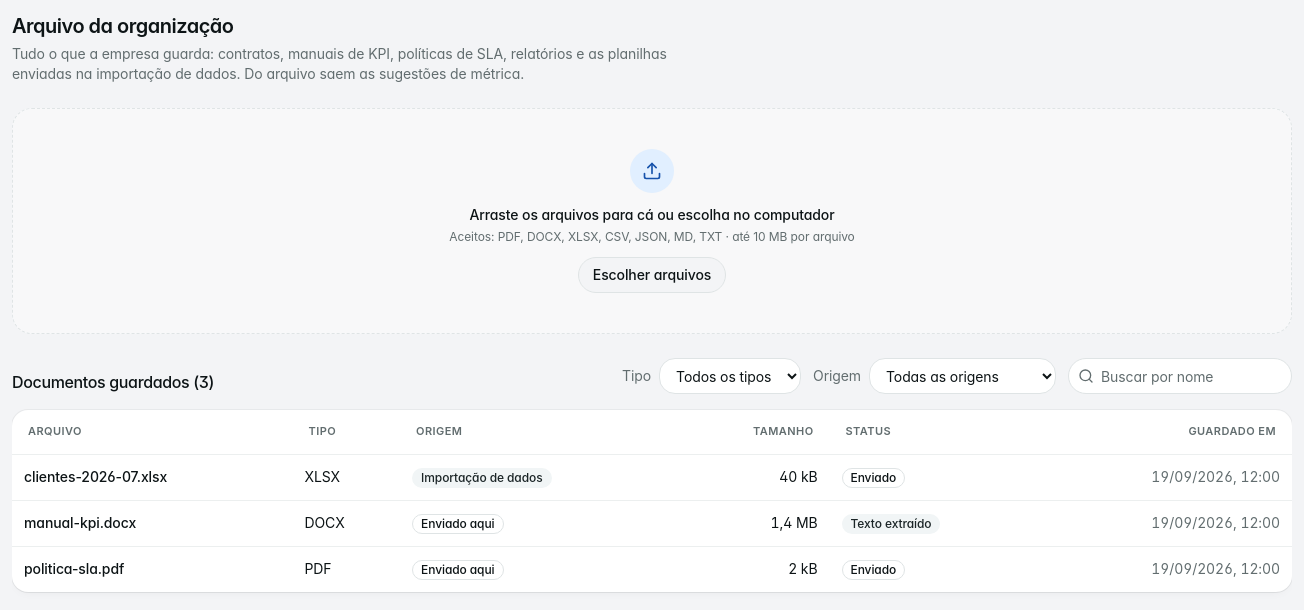
feature documents › /documents › filtra por tipo, por origem e por nome, e limpa os filtros
The width and height of the screenshot is (1304, 610).
expect the heading "Documentos guardados (3)" is shown: met, box x1=12 y1=370 x2=214 y2=394
Select "XLSX" in the dropdown labelled "Tipo" at (730, 376), box x1=659 y1=358 x2=801 y2=394
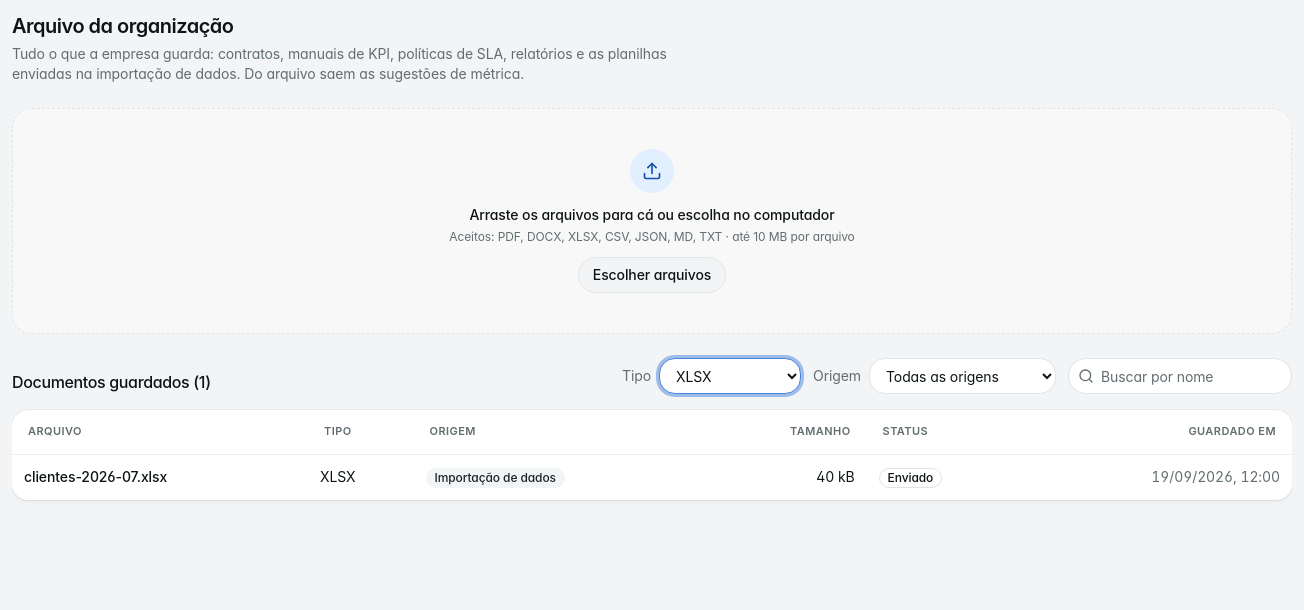
expect the heading "Documentos guardados (1)" is shown: met, box x1=12 y1=370 x2=211 y2=394
Select "Todos os tipos" in the dropdown labelled "Tipo" at (730, 376), box x1=659 y1=358 x2=801 y2=394
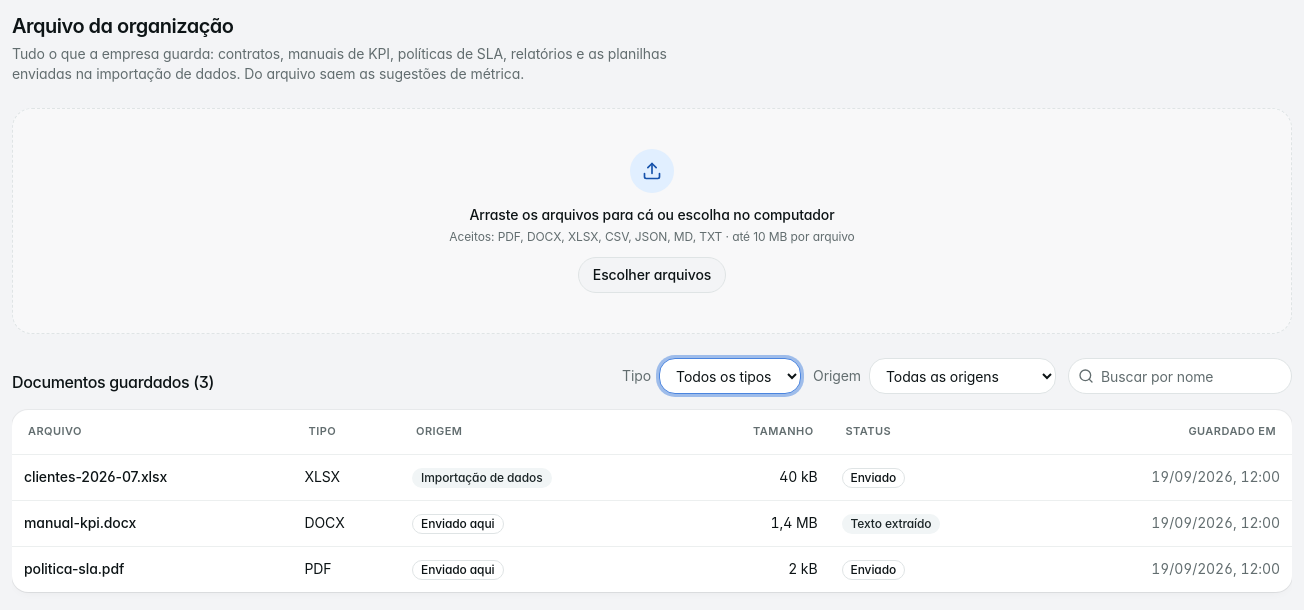
Select "Importação de dados" in the dropdown labelled "Origem" at (962, 376), box x1=869 y1=358 x2=1056 y2=394
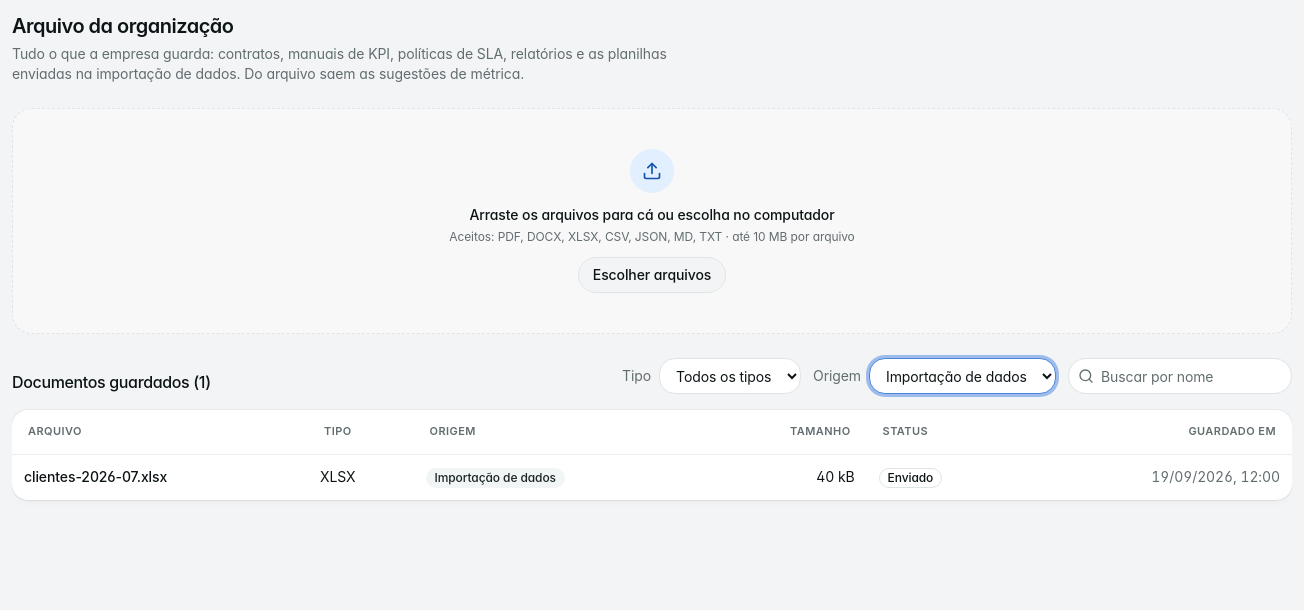
expect the heading "Documentos guardados (1)" is shown: met, box x1=12 y1=370 x2=211 y2=394
Select "Todas as origens" in the dropdown labelled "Origem" at (962, 376), box x1=869 y1=358 x2=1056 y2=394
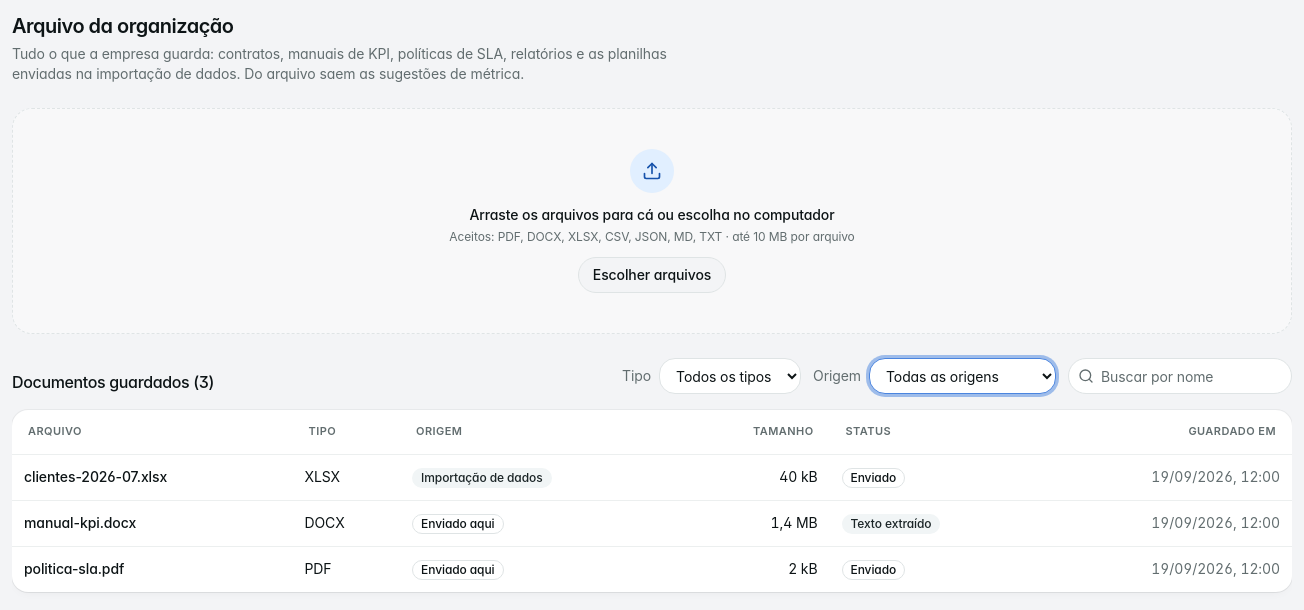
Type "manual" into the search field named "Buscar por nome do arquivo".
click(1180, 376); type("manual")  # box x1=1068 y1=358 x2=1292 y2=394
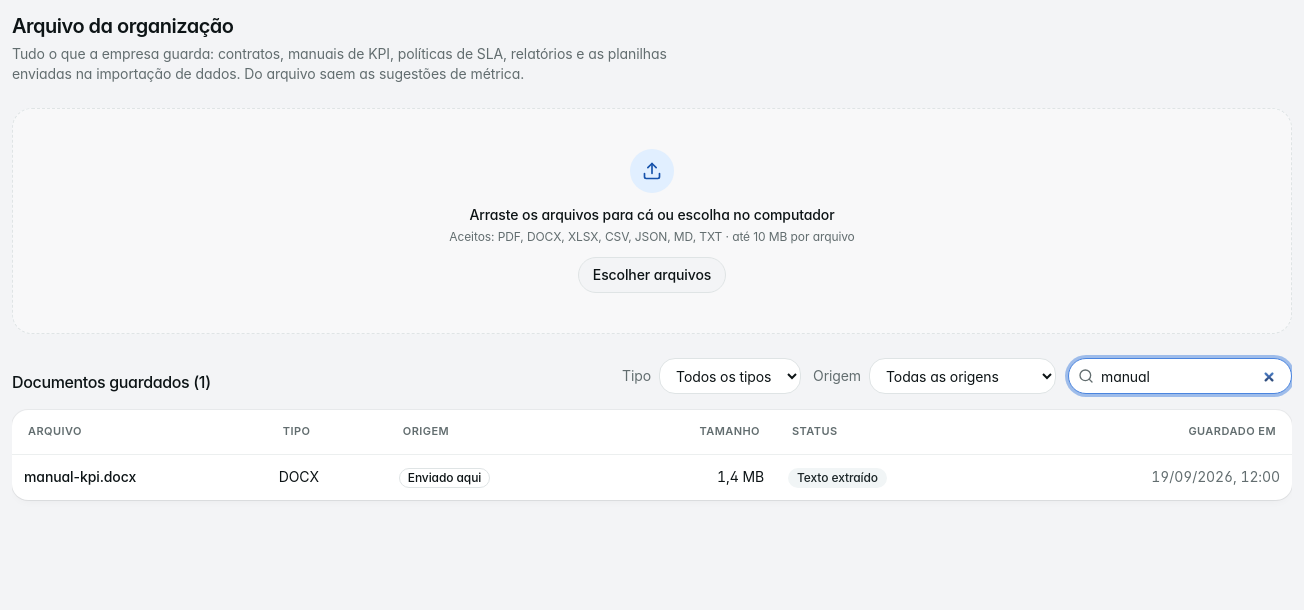
expect the link "manual-kpi.docx" is shown: met, box x1=24 y1=468 x2=136 y2=485
expect the heading "Documentos guardados (1)" is shown: met, box x1=12 y1=370 x2=211 y2=394
